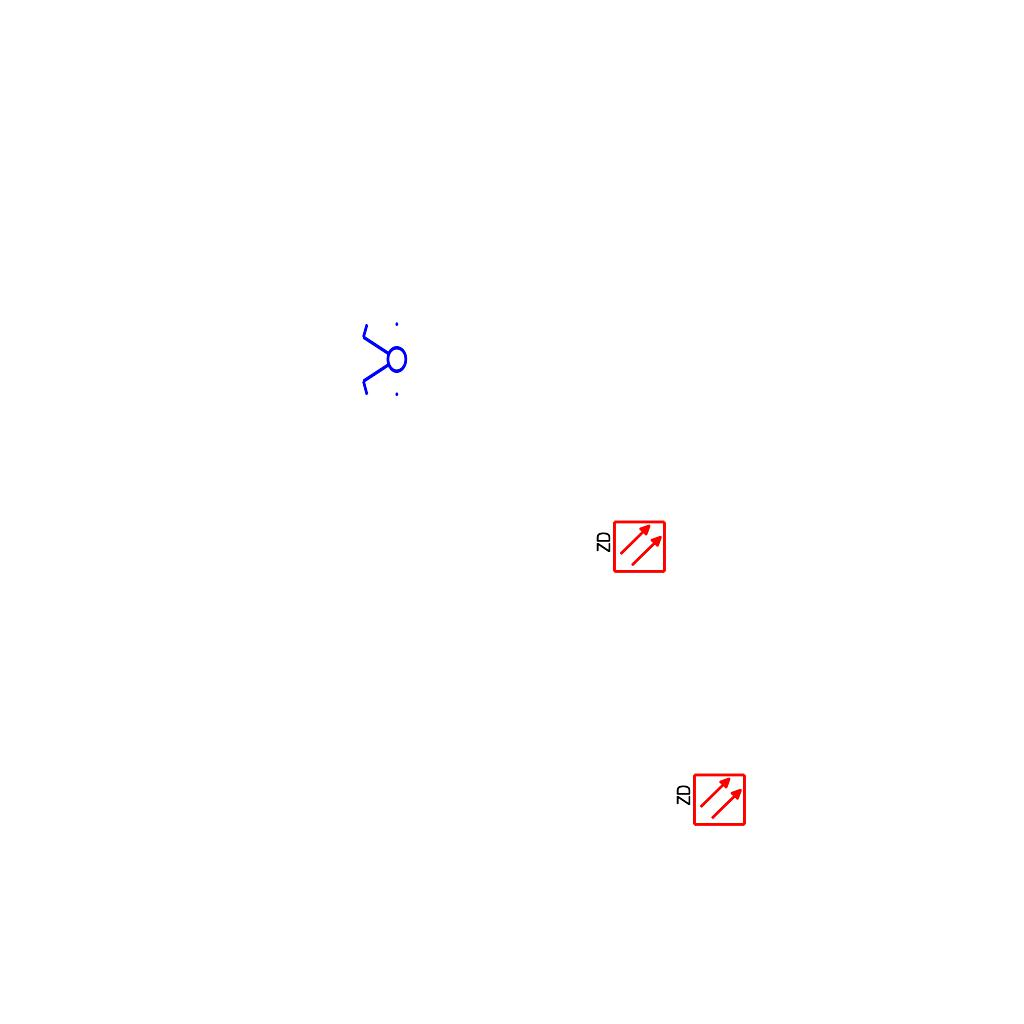Serienschalter: (360, 318, 408, 402)
ZD_Melder_in_Zwischendecke_mit_Revisionsoeffnung_mind_40_x_40_cm: (593, 519, 667, 576), (673, 772, 747, 829)
